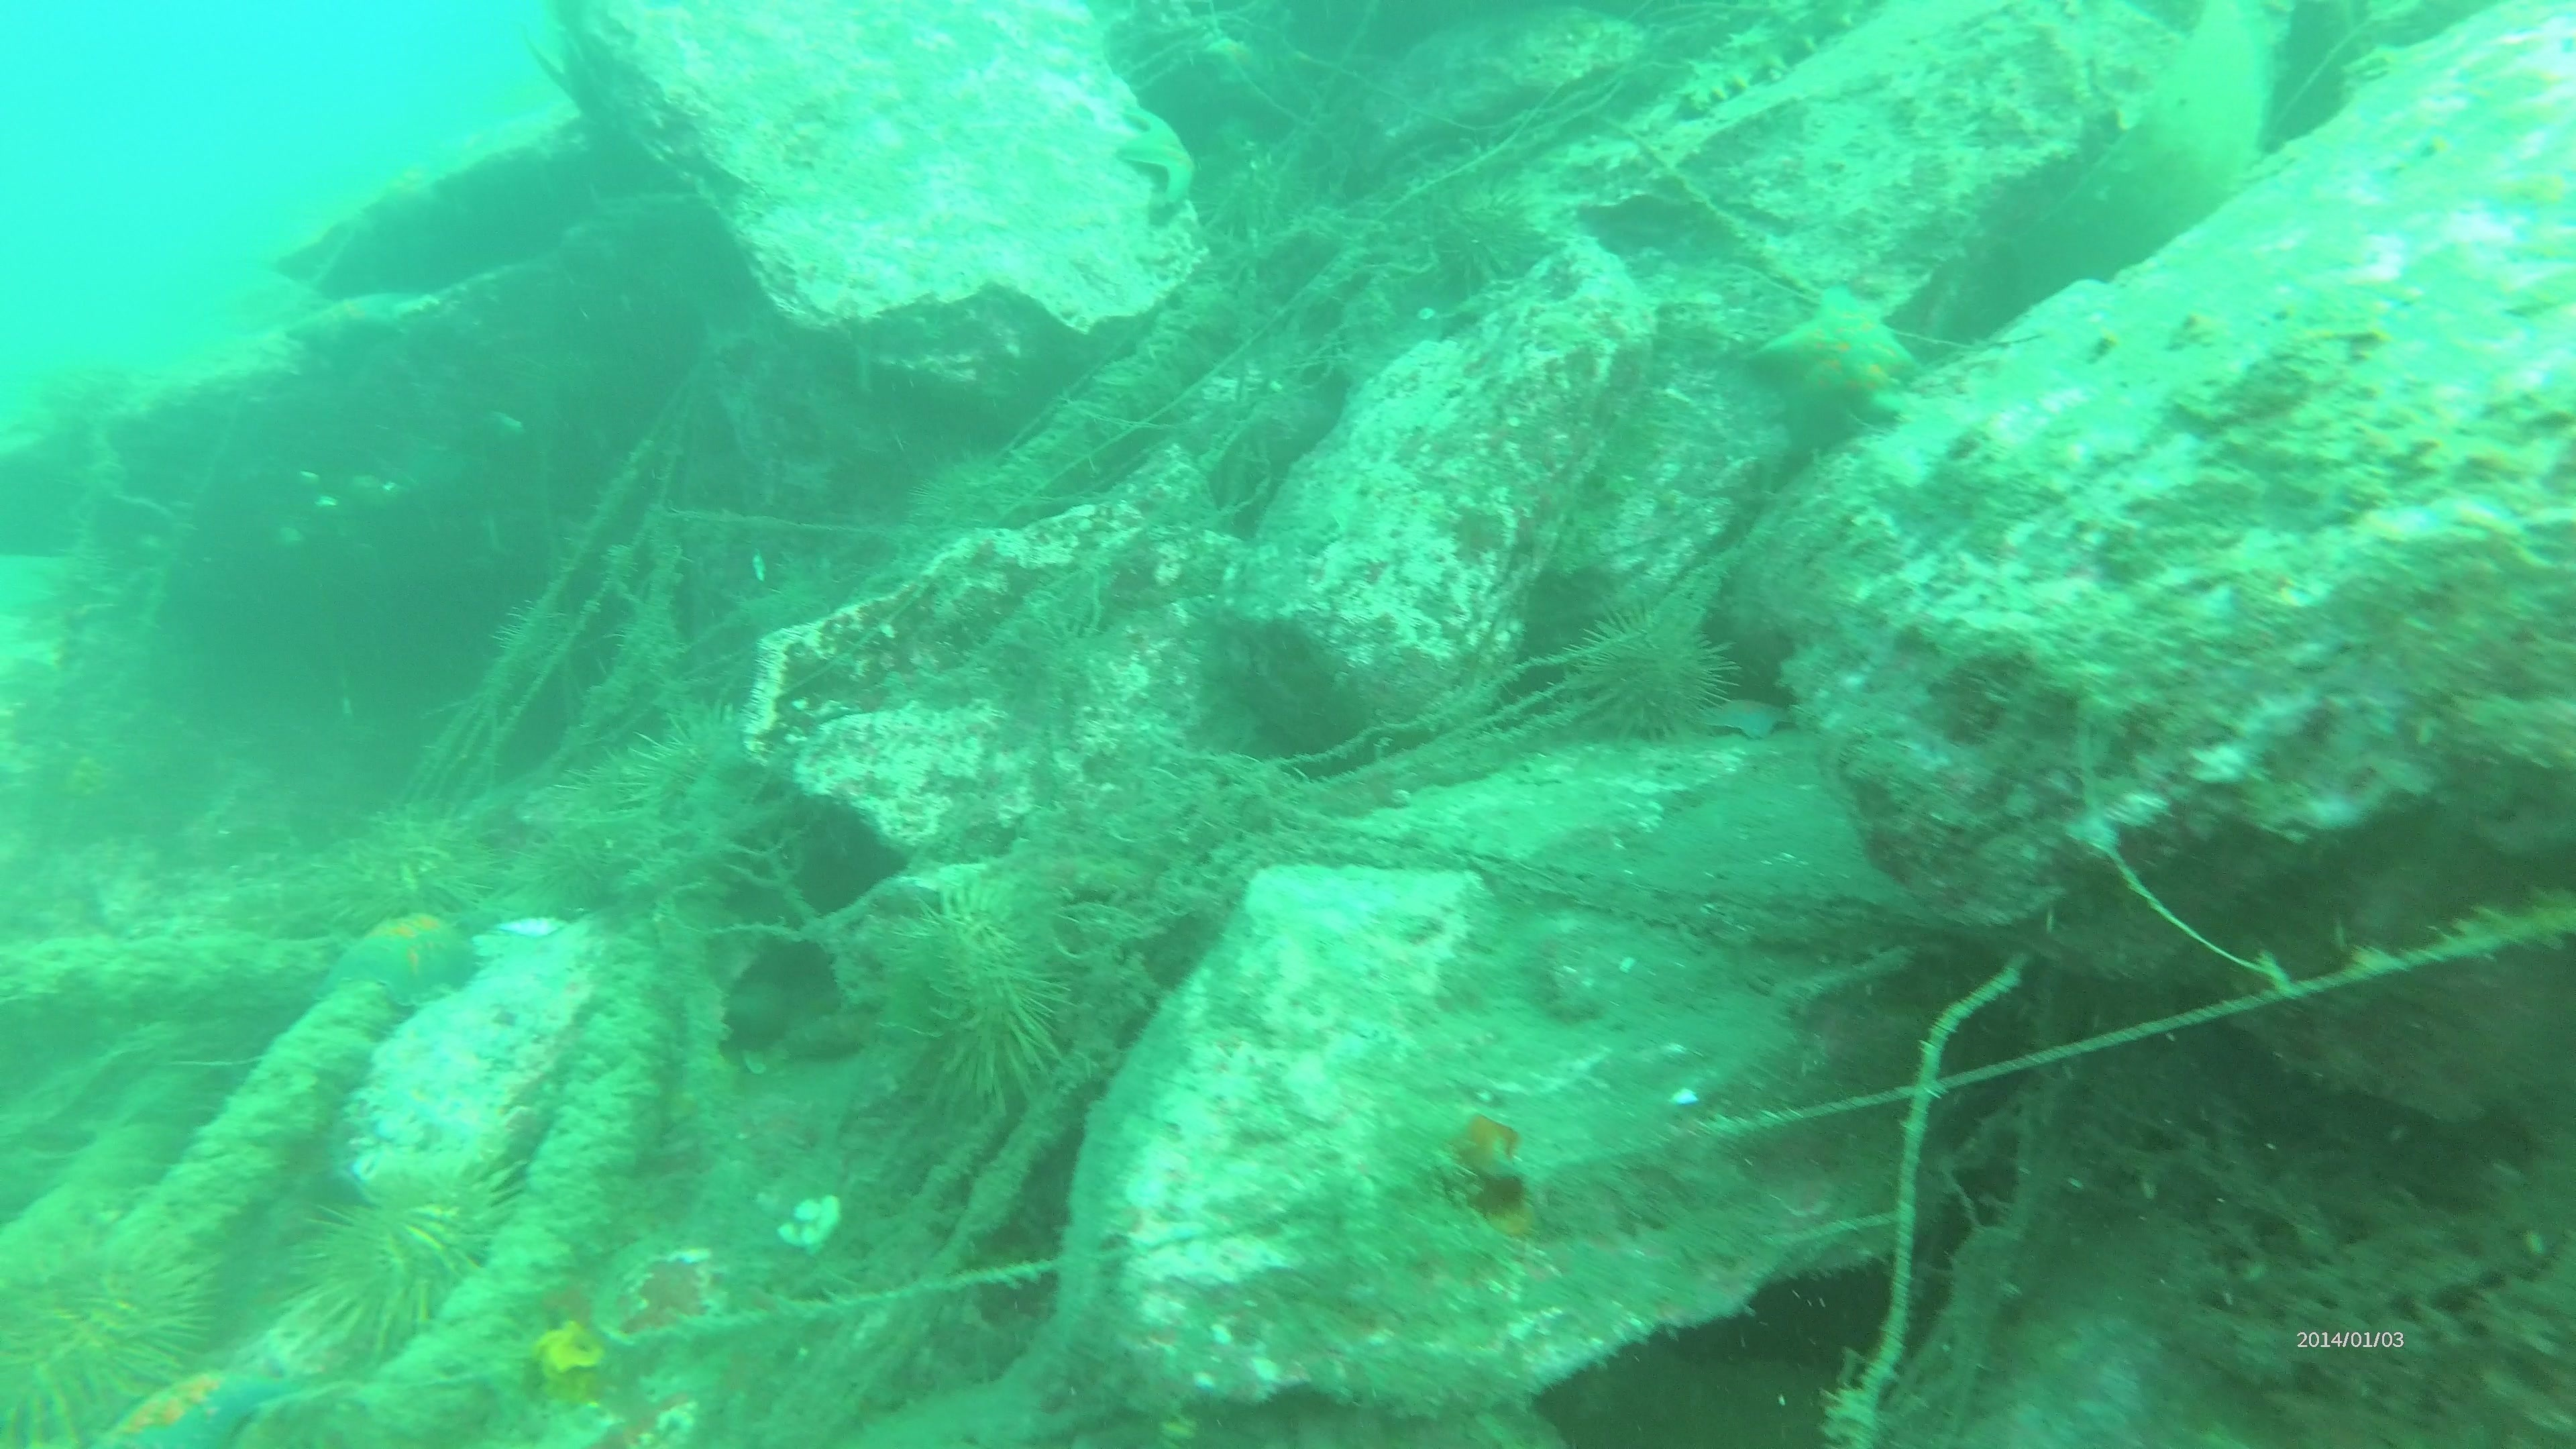echinus: (879, 885, 1090, 1111), (288, 1150, 518, 1353), (2, 1224, 218, 1440), (1185, 609, 1375, 768), (1555, 594, 1743, 750), (329, 789, 501, 924), (1410, 184, 1553, 306)
holothurian: (1649, 5, 1868, 131)
starfish: (1741, 274, 1927, 451), (94, 1353, 297, 1444), (324, 901, 488, 1010), (1111, 108, 1205, 230), (1693, 690, 1796, 747)
